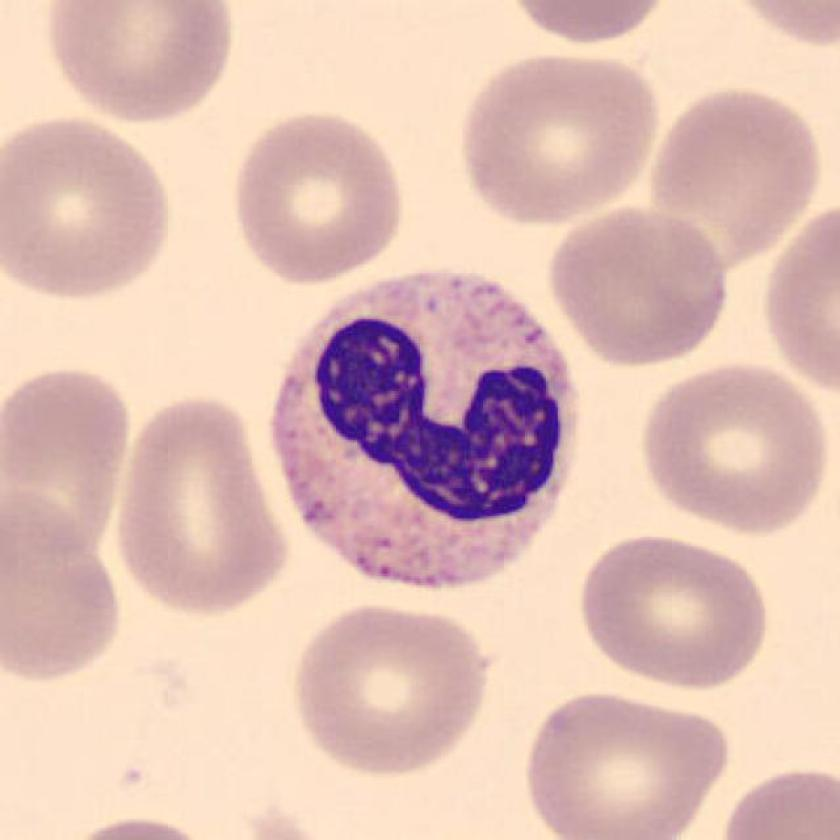neutrophil: (270, 274, 576, 586)
